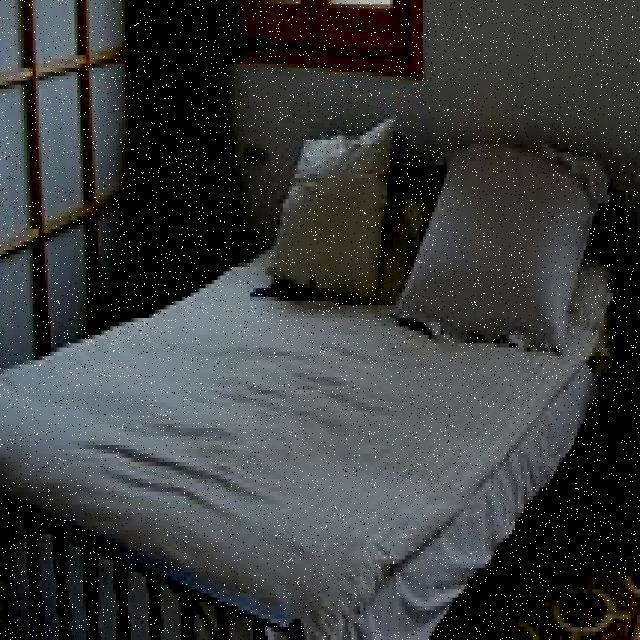bed: (0, 114, 618, 640)
